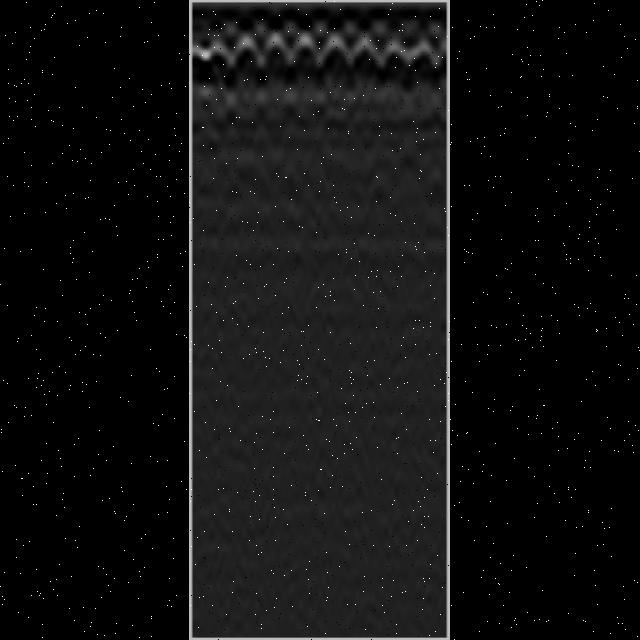hyperbola: (221, 31, 269, 75), (284, 28, 326, 70), (319, 30, 356, 72), (259, 27, 293, 71), (412, 40, 444, 86), (386, 36, 416, 82), (206, 36, 236, 80), (348, 36, 384, 70)
